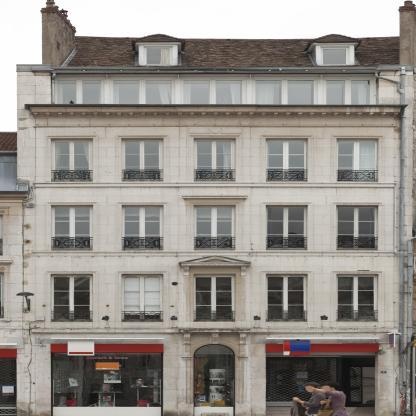Building Outline: (16, 0, 416, 416)
Cornice: (179, 255, 251, 277), (182, 196, 248, 200)
Door: (266, 352, 377, 416), (340, 357, 377, 407)
Facade: (17, 33, 416, 416)
Floor: (18, 256, 412, 328), (18, 187, 412, 250), (18, 124, 412, 182), (18, 73, 412, 119)
Floor Slab: (18, 328, 412, 334), (18, 251, 412, 257), (18, 68, 412, 73), (18, 182, 412, 187), (18, 119, 412, 124)
Ground Floor: (17, 334, 412, 416)
Molding: (33, 112, 400, 118), (33, 251, 397, 256), (33, 182, 397, 187), (33, 125, 397, 127)
Pillar: (181, 332, 193, 416), (238, 332, 249, 416)
Roof: (61, 33, 400, 68)
Shop: (51, 344, 163, 416), (266, 352, 377, 407), (194, 344, 235, 416)
Top Floor: (52, 39, 412, 68)
Window: (266, 274, 308, 321), (51, 274, 92, 322), (337, 274, 378, 321), (122, 274, 163, 321), (194, 274, 235, 321), (194, 205, 236, 250), (266, 205, 308, 250), (51, 206, 93, 250), (122, 205, 164, 249), (337, 205, 378, 250), (122, 138, 164, 181), (194, 138, 236, 181), (266, 138, 308, 181), (51, 139, 93, 181), (337, 138, 378, 181), (256, 80, 281, 104), (288, 81, 313, 105), (216, 81, 242, 104), (114, 81, 139, 104), (146, 81, 171, 104), (184, 81, 209, 104), (321, 48, 349, 65), (145, 48, 172, 65), (351, 81, 370, 105), (326, 81, 345, 105), (58, 81, 76, 104), (82, 81, 100, 104)
